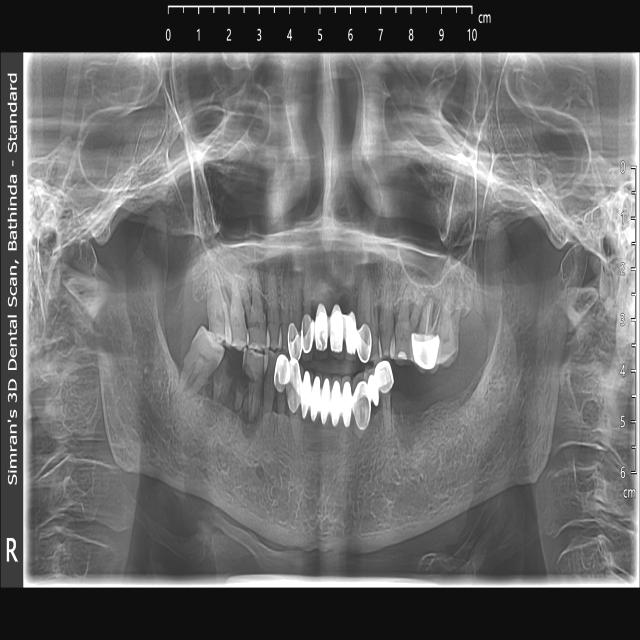Crown: (273, 353, 394, 432), (288, 300, 372, 364)
Missing teeth: (395, 385, 457, 437), (308, 266, 360, 314), (288, 421, 382, 447)
Periapical lesion: (240, 414, 262, 445)
Root Canal Treatment: (414, 294, 445, 377)
Root Piece: (214, 357, 234, 412), (234, 383, 250, 415)
